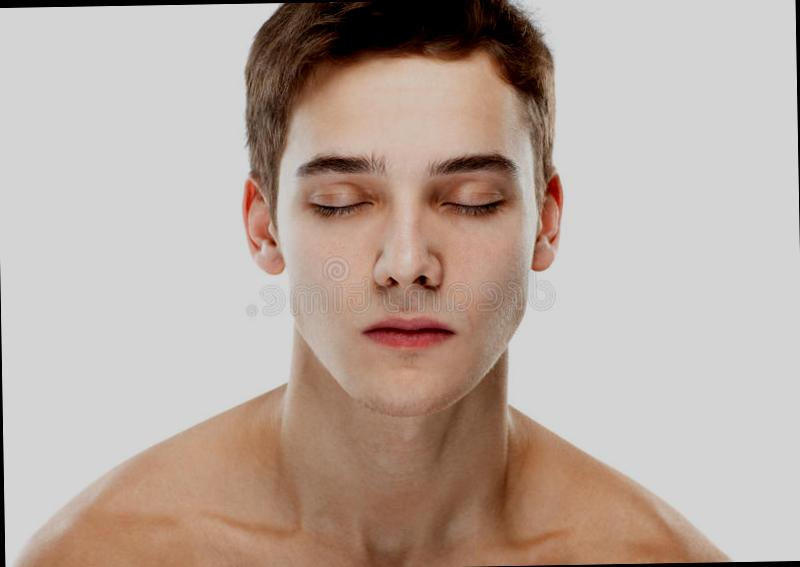closed: (295, 132, 517, 228)
